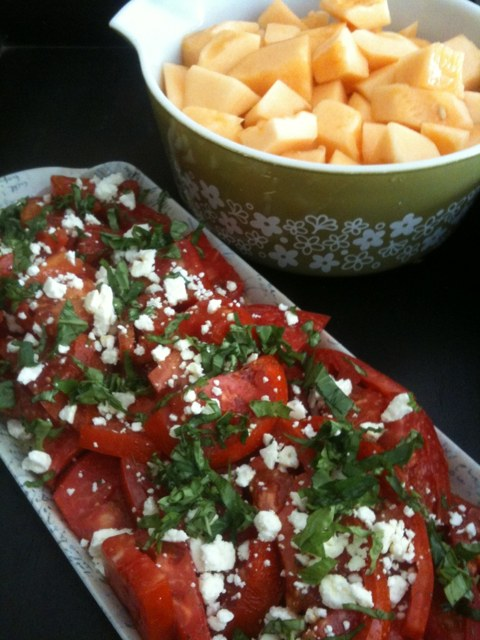tomato: (0, 174, 480, 640)
